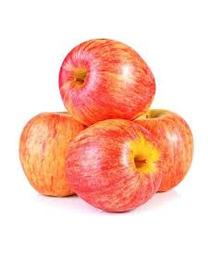apple: (65, 119, 165, 213), (58, 38, 156, 126), (19, 112, 88, 197), (135, 109, 194, 193)
